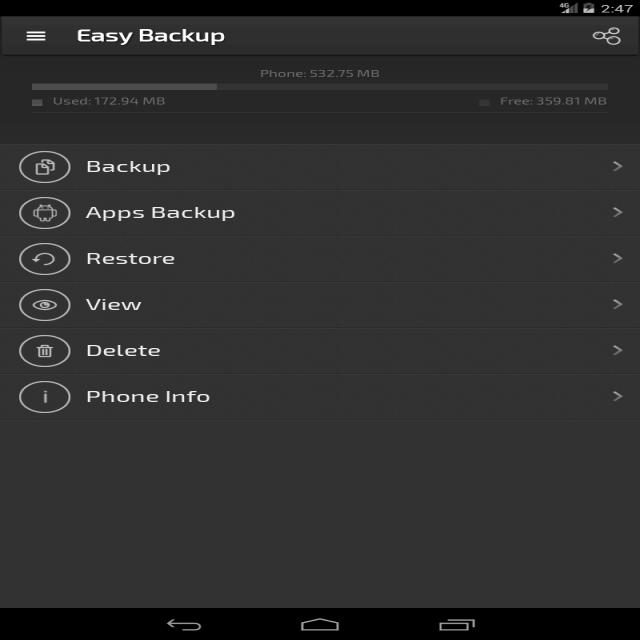ImageButton: (585, 22, 630, 48), (18, 26, 54, 48)
ImageView: (18, 240, 72, 278), (18, 380, 73, 416), (21, 289, 70, 325), (22, 333, 72, 367), (16, 152, 71, 182), (21, 196, 69, 228)
ProgressBar: (24, 79, 619, 93)
TextView: (70, 25, 234, 51), (80, 203, 242, 223), (84, 383, 211, 407), (81, 156, 184, 178), (480, 94, 617, 110), (82, 249, 184, 267), (82, 340, 172, 359), (258, 64, 390, 76), (81, 294, 145, 314), (51, 96, 163, 107)
